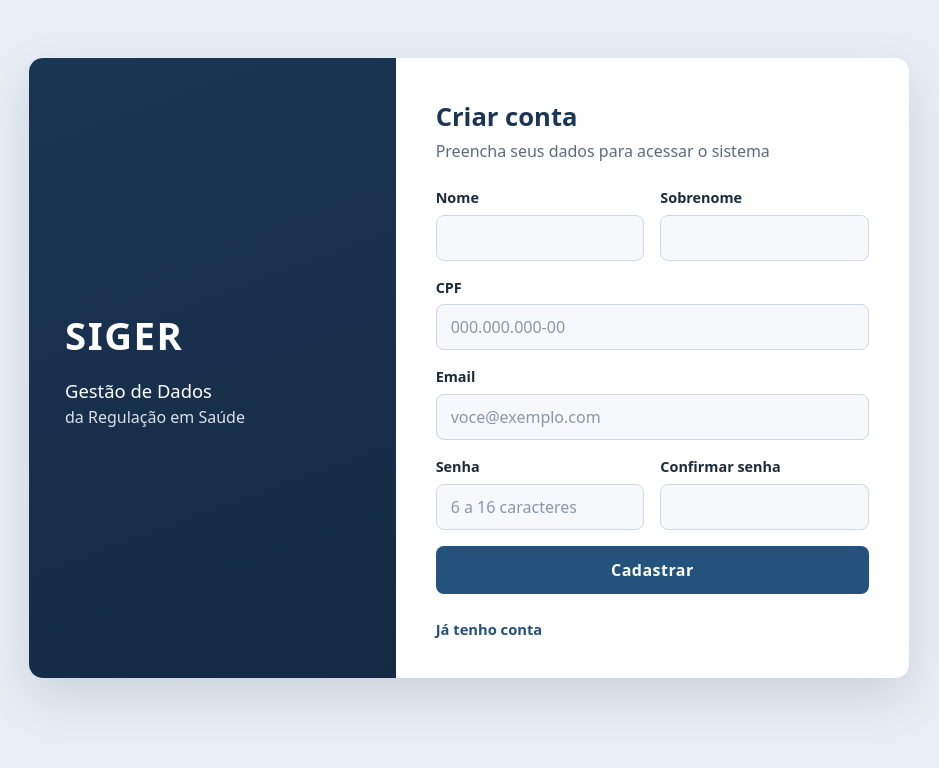
Test: AC-3 mostra a mensagem genérica quando CPF ou email já existem
In the field labelled "Nome": (540, 238) [436,215,644,261], type "Maria"
In the field labelled "Sobrenome": (765, 238) [660,215,869,261], type "Silva"
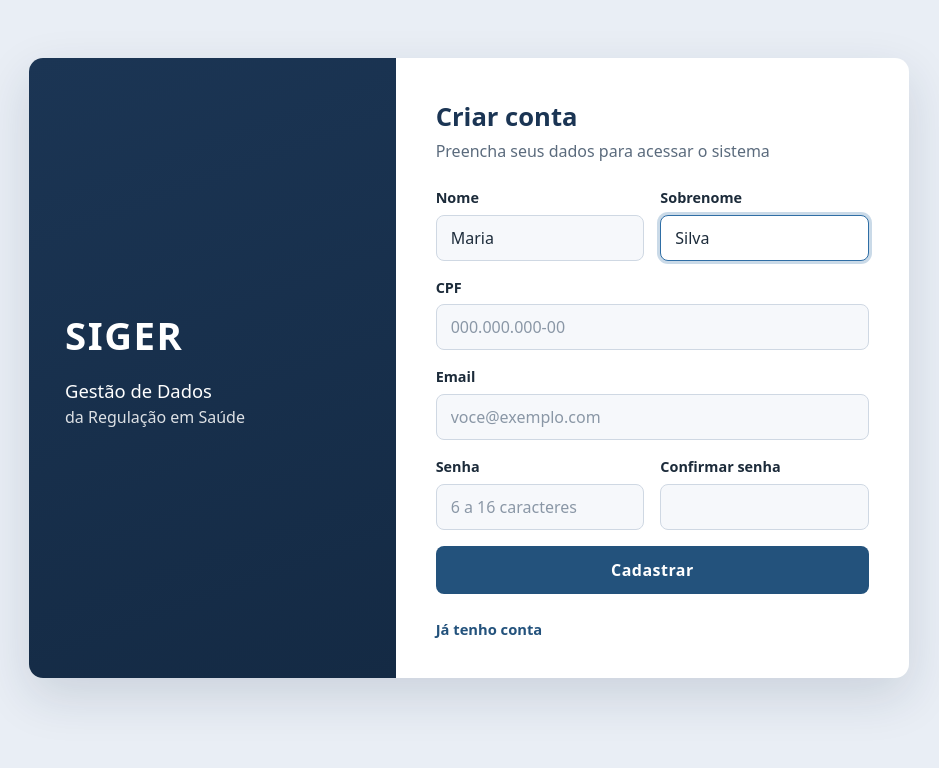
In the field labelled "CPF": (652, 327) [436,304,869,350], type "529.982.247-25"
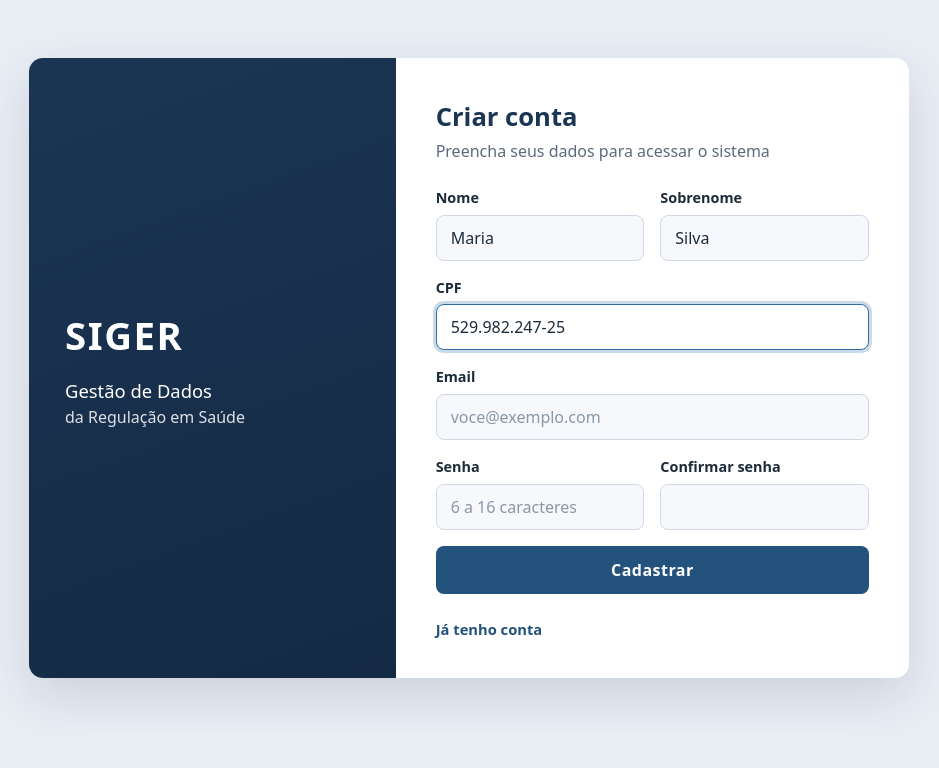
In the field labelled "Email": (652, 417) [436,394,869,440], type "maria@exemplo.com"
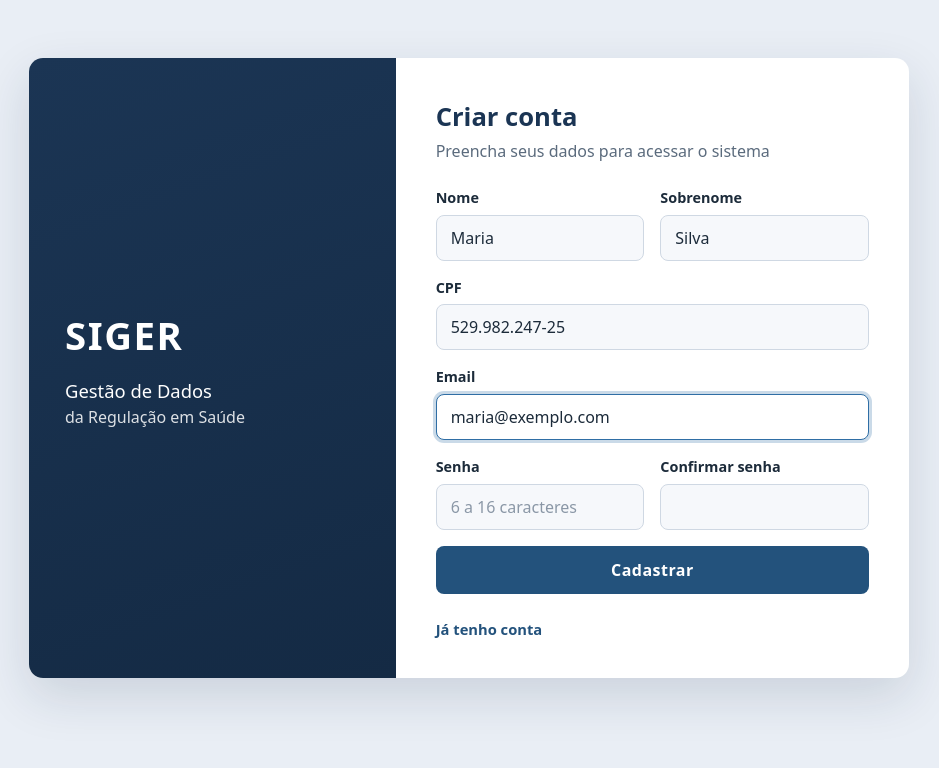
In the password field labelled "Senha": (540, 506) [436,484,644,530], type "abc123"
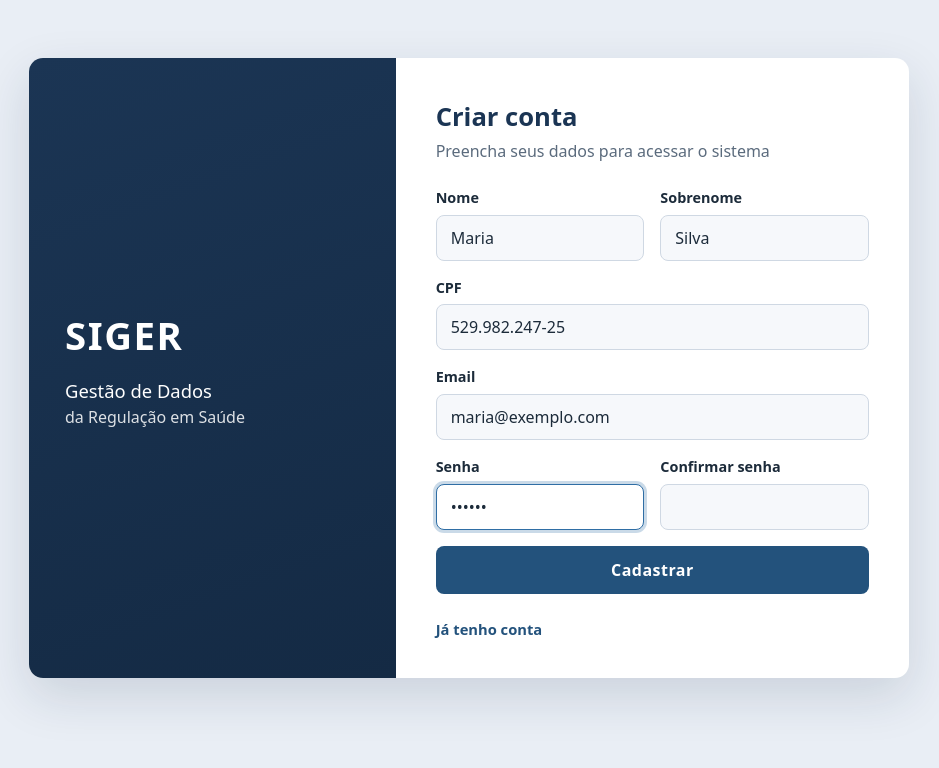
In the password field labelled "Confirmar senha": (765, 506) [660,484,869,530], type "abc123"
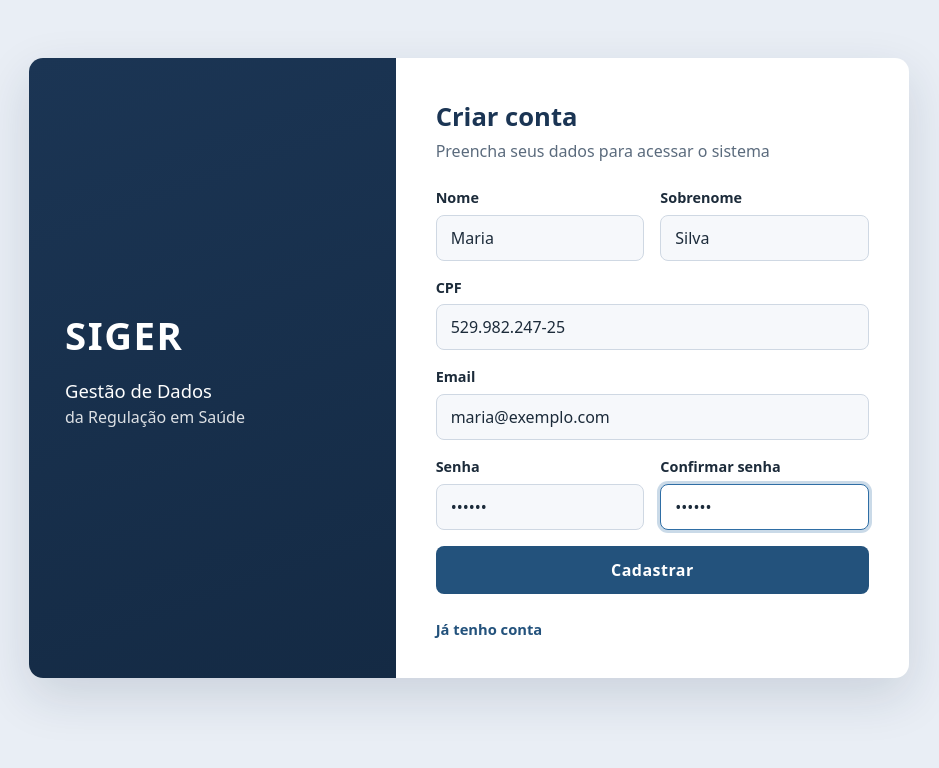
Click the button "Cadastrar": (652, 570) [436,546,869,594]
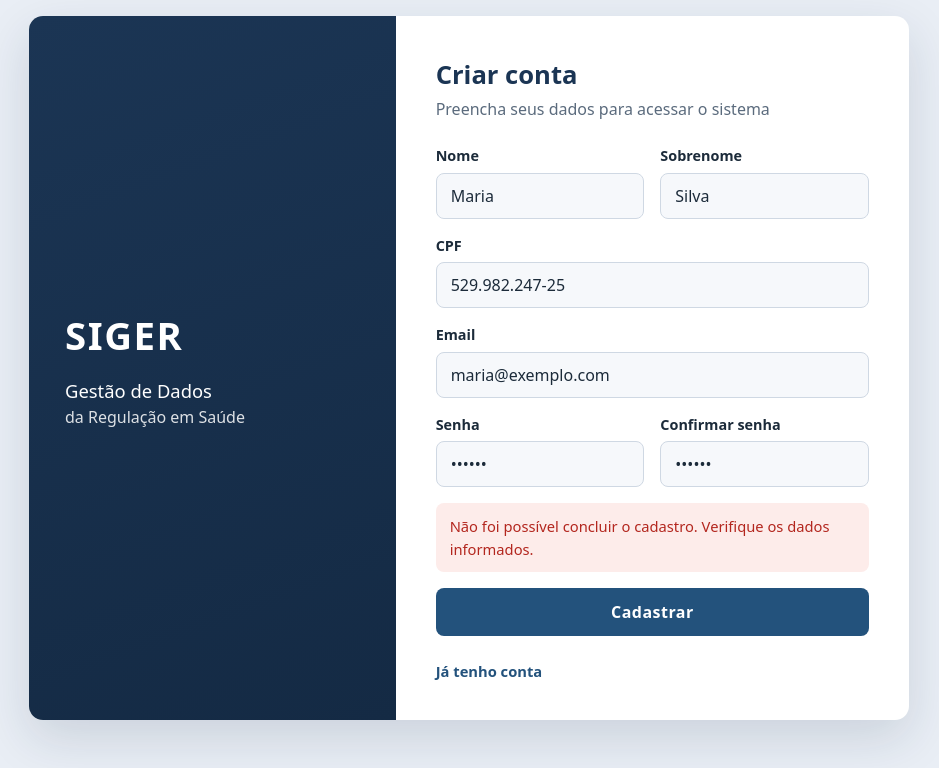
Check: the text "Não foi possível concluir o cadastro. Verifique os dados informados." is shown, box [436,504,869,572]
